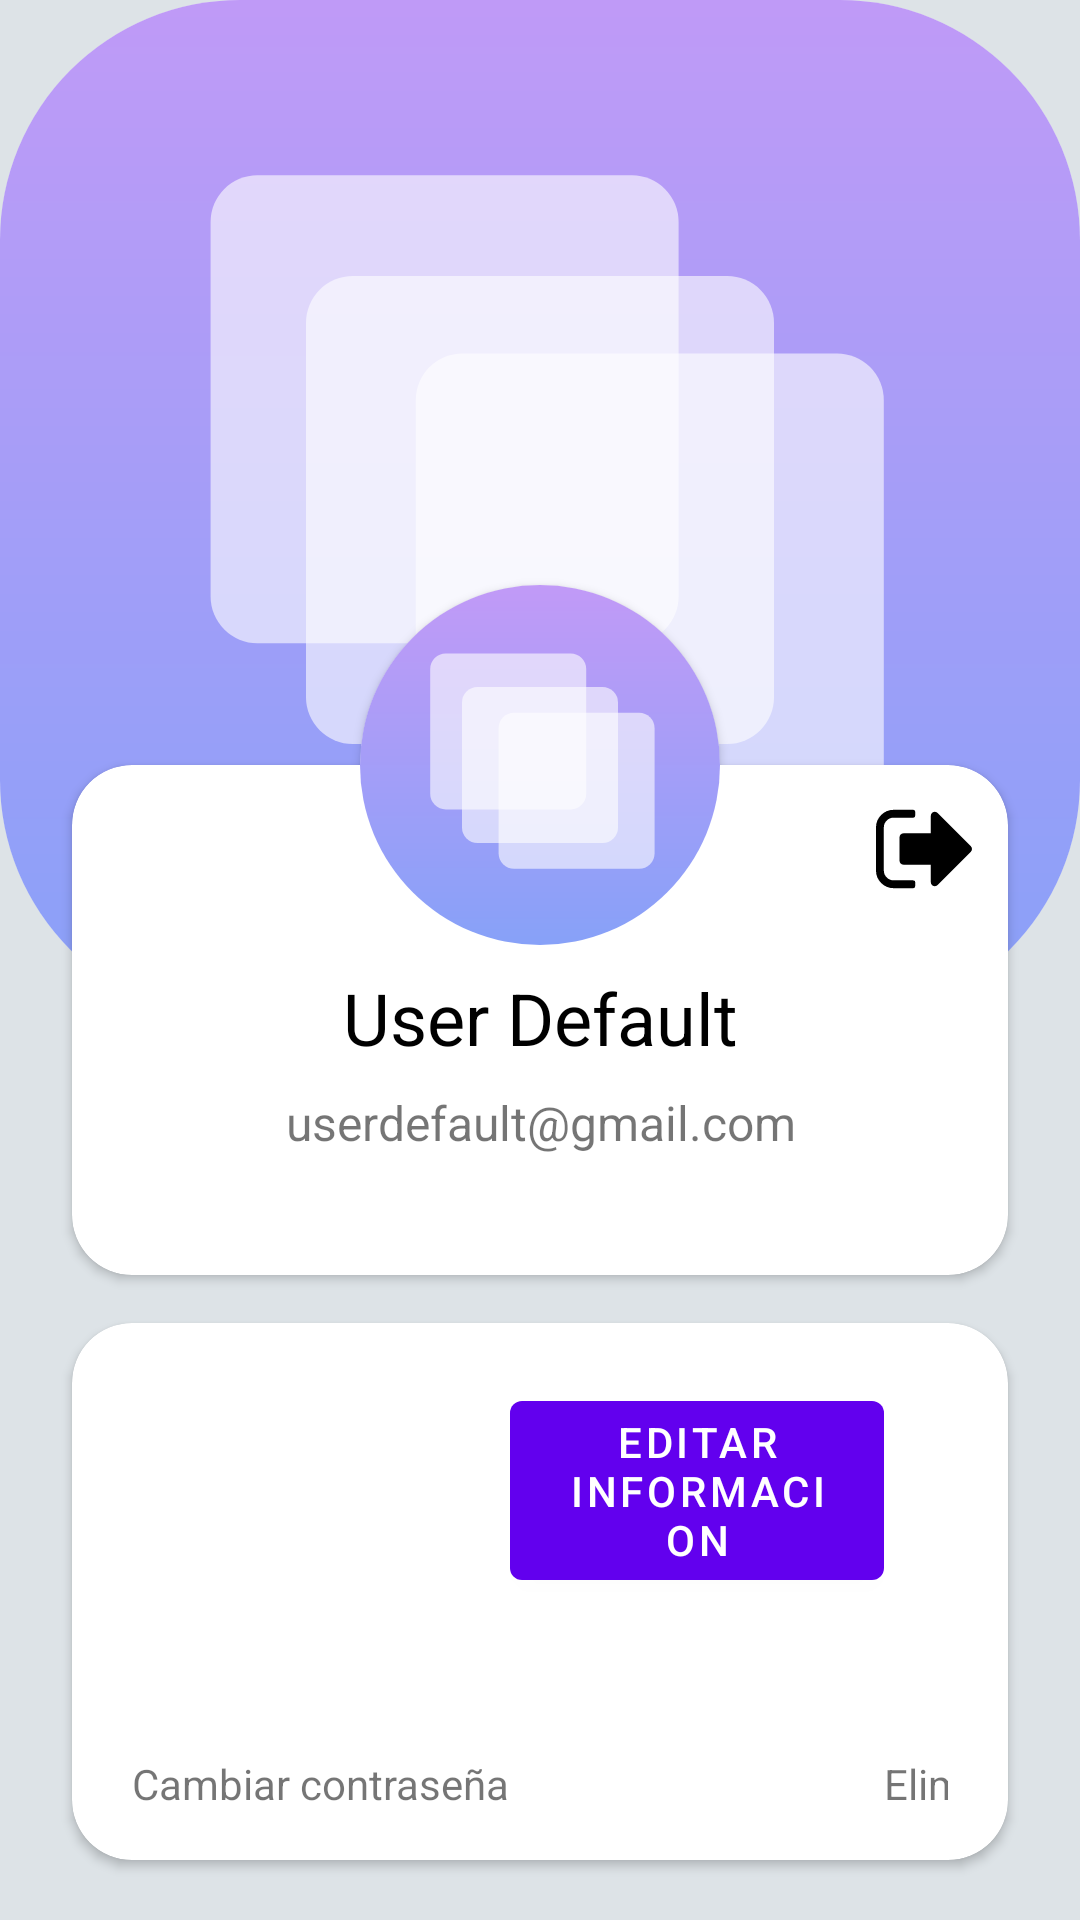

Named icons in this screenshot (1080w x 1920h) and their bounding boxes, detection(x1, y1, x2, y2):
sign out: detection(876, 809, 972, 889)
